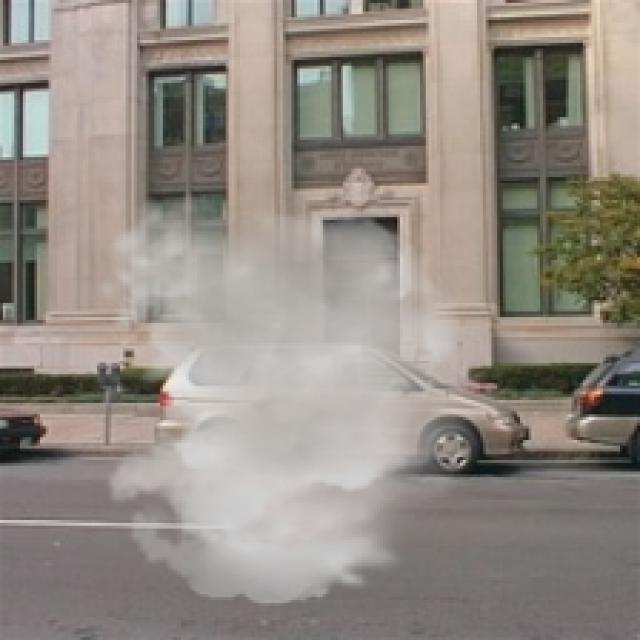smoke: (92, 194, 514, 606)
